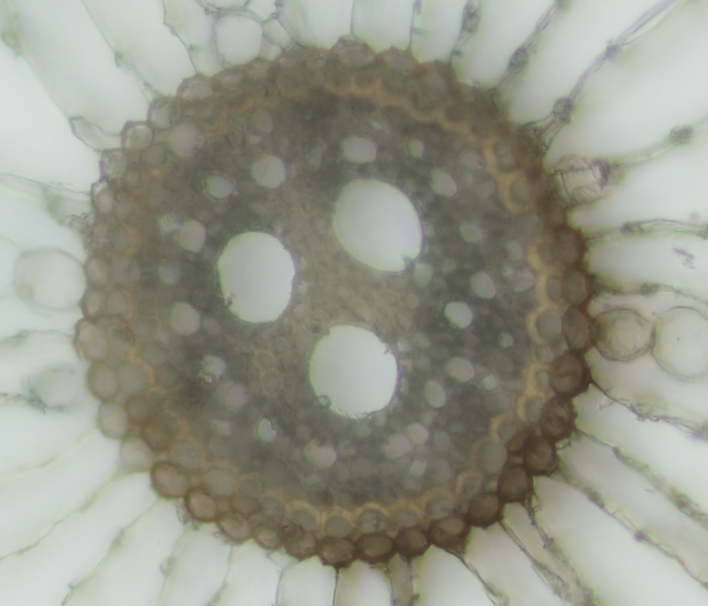lm: (330, 178, 421, 272), (309, 325, 398, 419), (217, 231, 296, 322)
